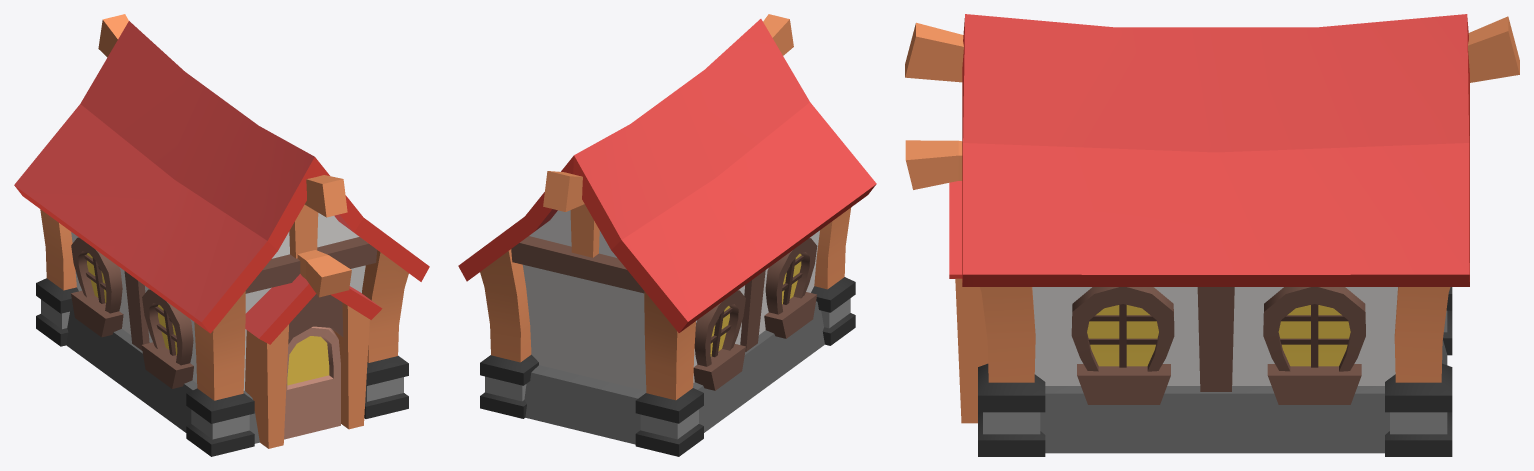
The model's file is house_012.fbx.
3 views of the same model, side by side, from view 1: azimuth 30°, elevation 25°; view 2: azimuth 150°, elevation 25°; view 3: azimuth 270°, elevation 25° (orthographic). The views are drawn at different scales.
Visible parts, largest first — view 1: house_012; view 2: house_012; view 3: house_012.
Boxes of the visible parts, bbox=[...] form: house_012: bbox=[14, 14, 429, 456]; house_012: bbox=[458, 14, 876, 456]; house_012: bbox=[905, 14, 1519, 456].
Size of the model in its own units: 313 by 540 by 366.
Materials: 2 (2 with a texture image).
